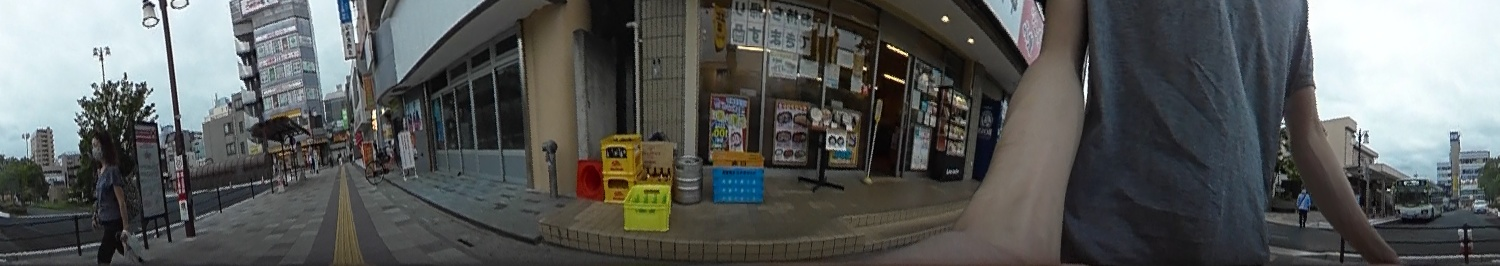difficult_person: (1296, 187, 1308, 227)
person: (84, 128, 134, 262)
